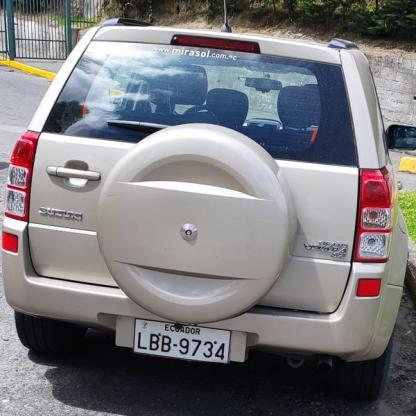Placa: (134, 316, 233, 365)
